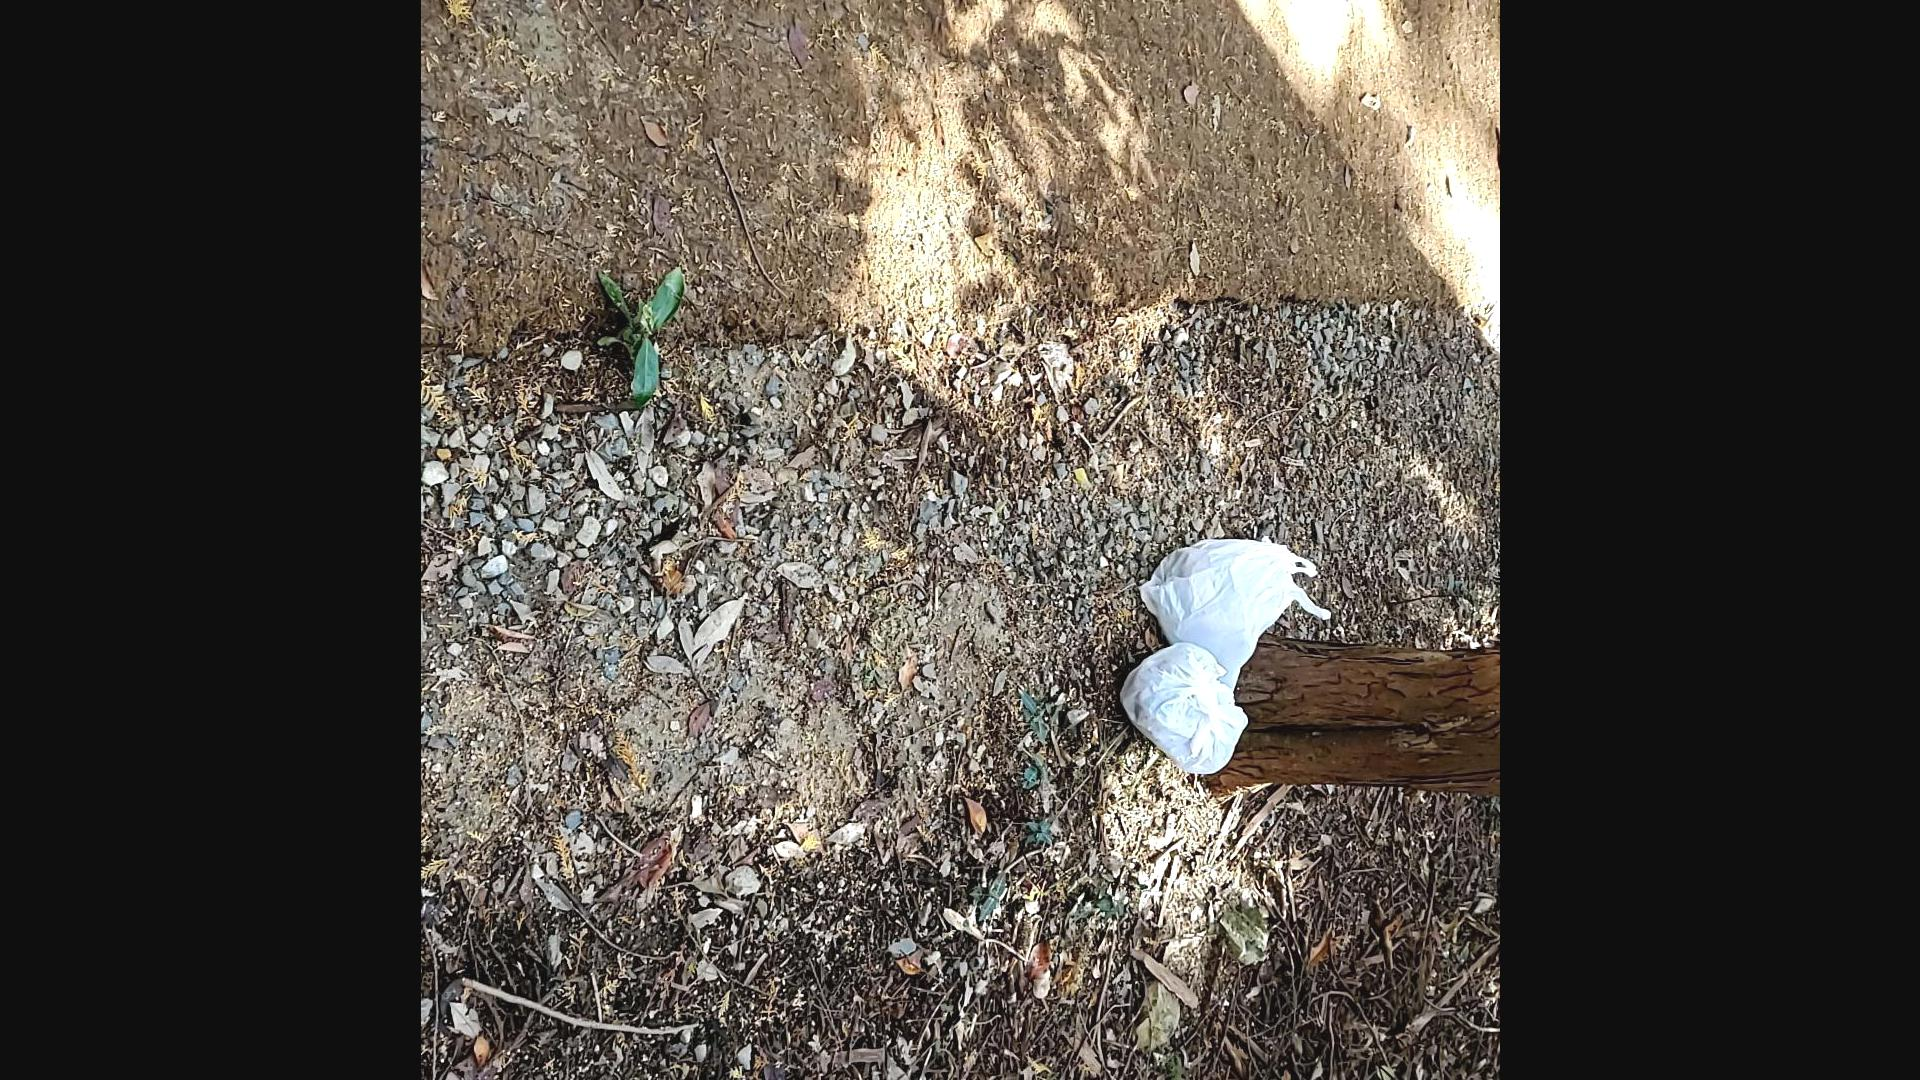white_bag: (1138, 520, 1331, 696), (1113, 636, 1258, 779)
